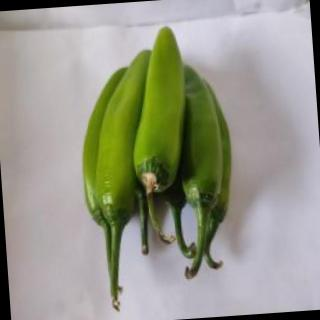Cabai Hijau: (120, 21, 199, 250)
